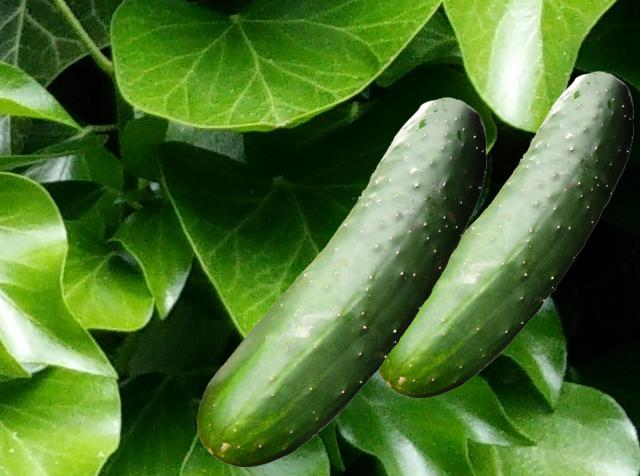cucumber: (197, 97, 485, 466), (377, 71, 632, 397)
